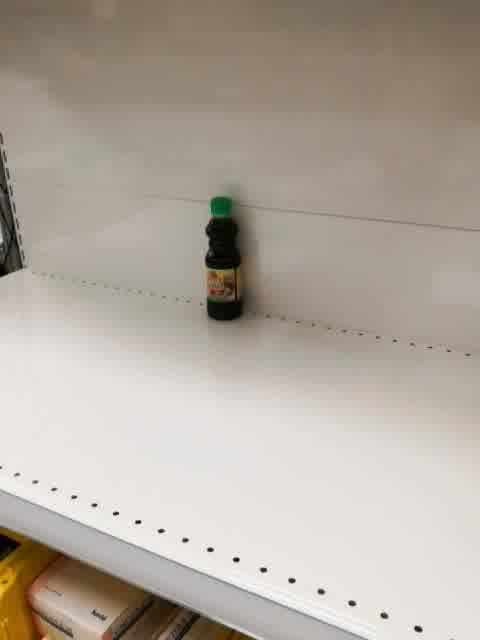cookingoil: (202, 192, 246, 325)
